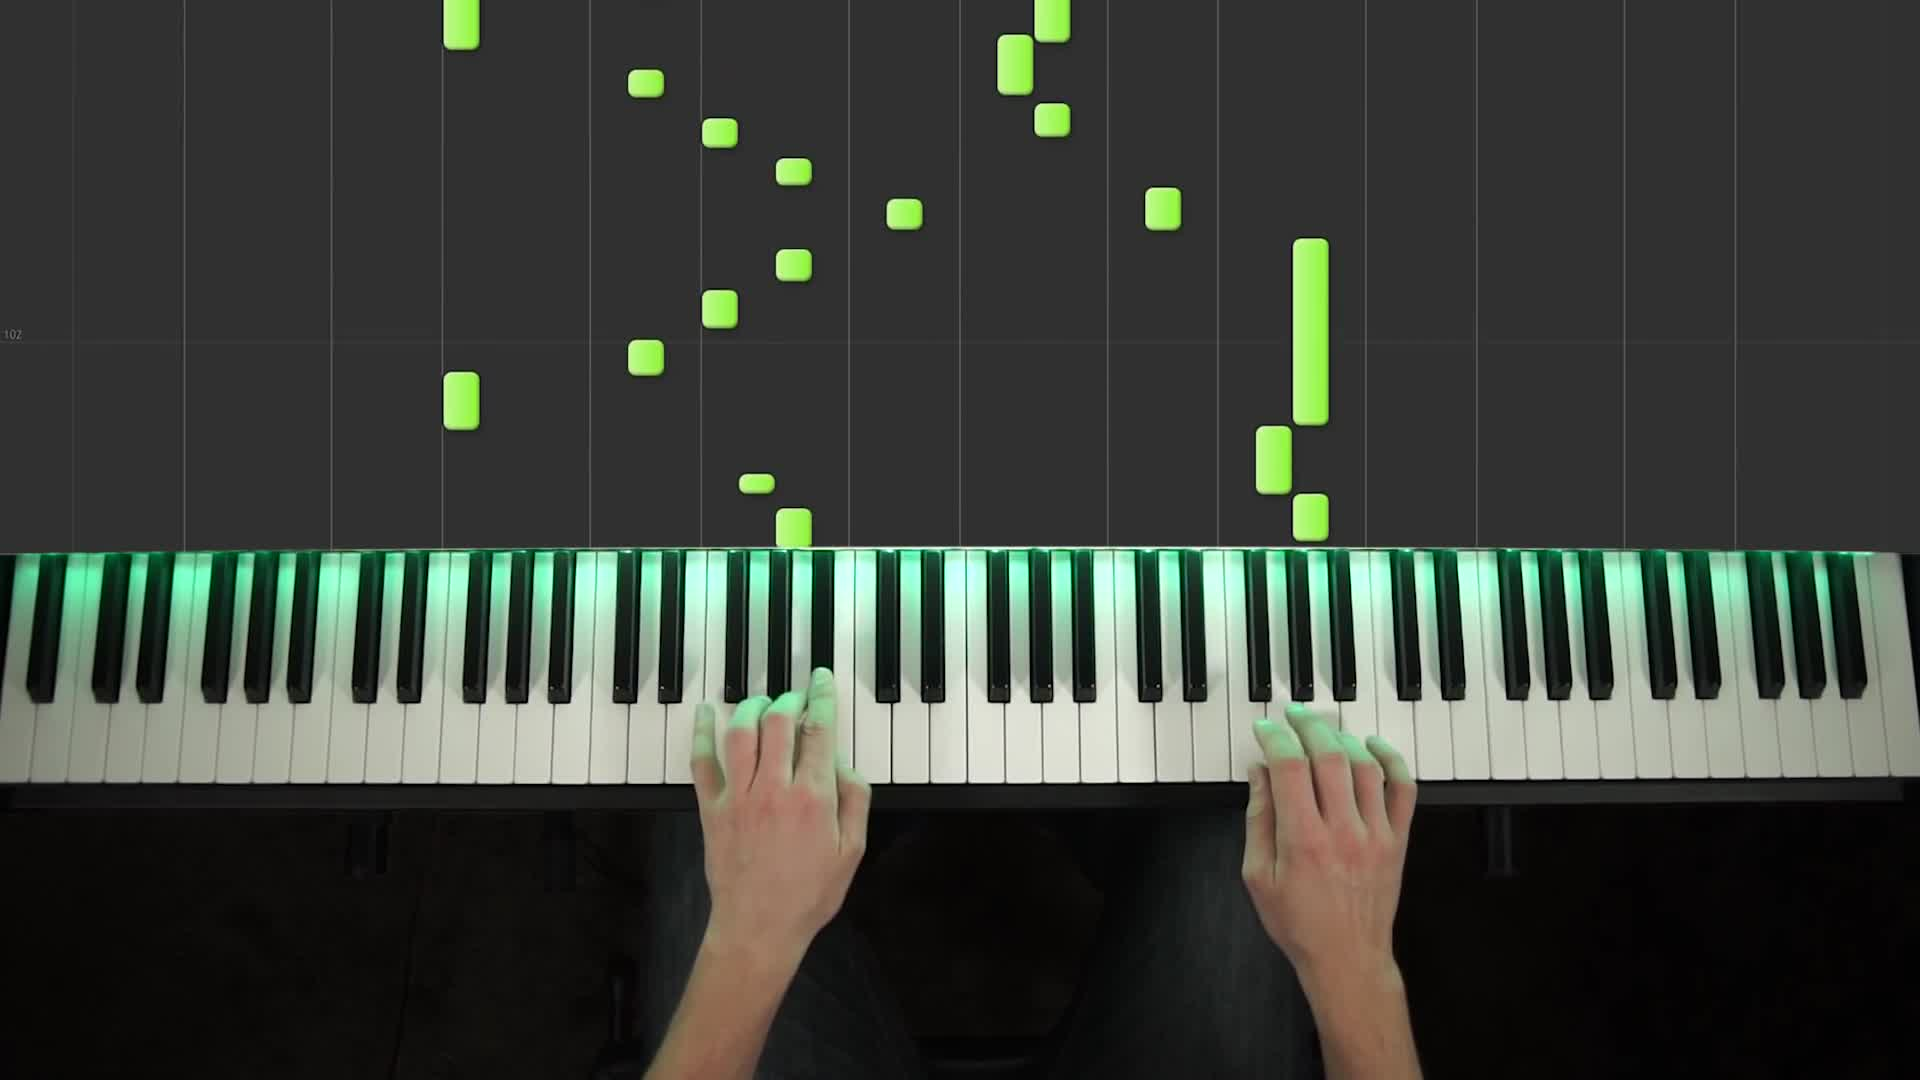left: (691, 662, 872, 924)
right: (1241, 705, 1416, 957)
